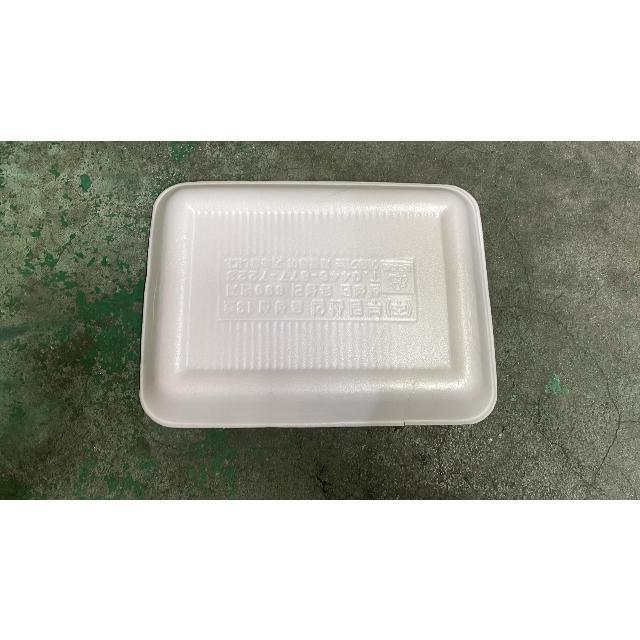Plastico descartable: (138, 182, 500, 432)
